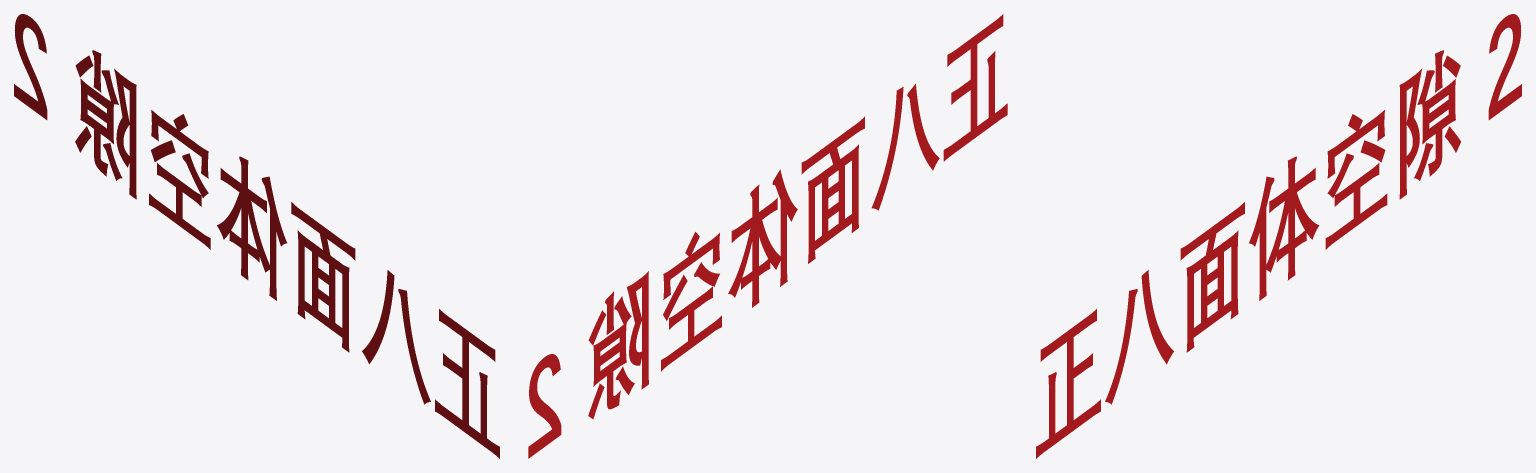
The model's file is z正八面体.fbx.
3 views of the same model, side by side, from view 1: azimuth 30°, elevation 25°; view 2: azimuth 150°, elevation 25°; view 3: azimuth 330°, elevation 25° (orthographic).
Parts seen in each view (by area): view 1: Text.004, Text.003; view 2: Text.004, Text.003; view 3: Text.004, Text.003.
Part boxes in pixels (x1=…): Text.004: x1=75, y1=50, x2=499, y2=458; Text.003: x1=14, y1=14, x2=47, y2=119; Text.004: x1=588, y1=14, x2=1007, y2=419; Text.003: x1=528, y1=354, x2=561, y2=458; Text.004: x1=1036, y1=50, x2=1460, y2=458; Text.003: x1=1488, y1=14, x2=1521, y2=119.
Bounding box in the file's own units: 0.1118 × 76.29 × 555.
